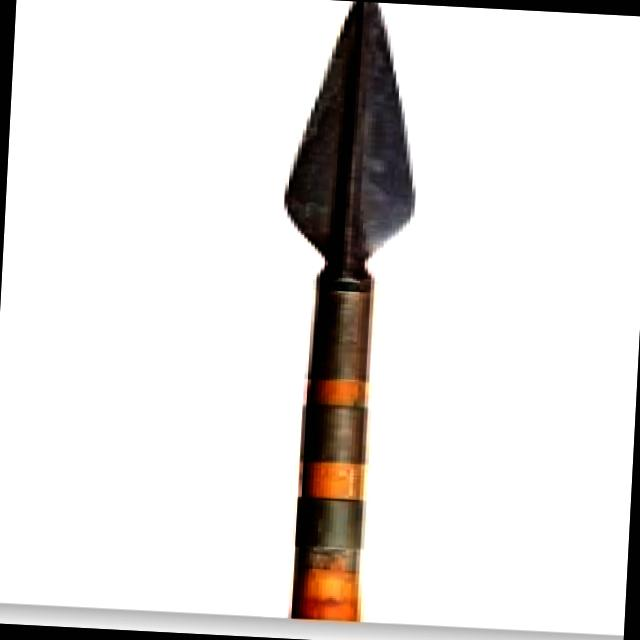spear: (179, 0, 536, 632)
